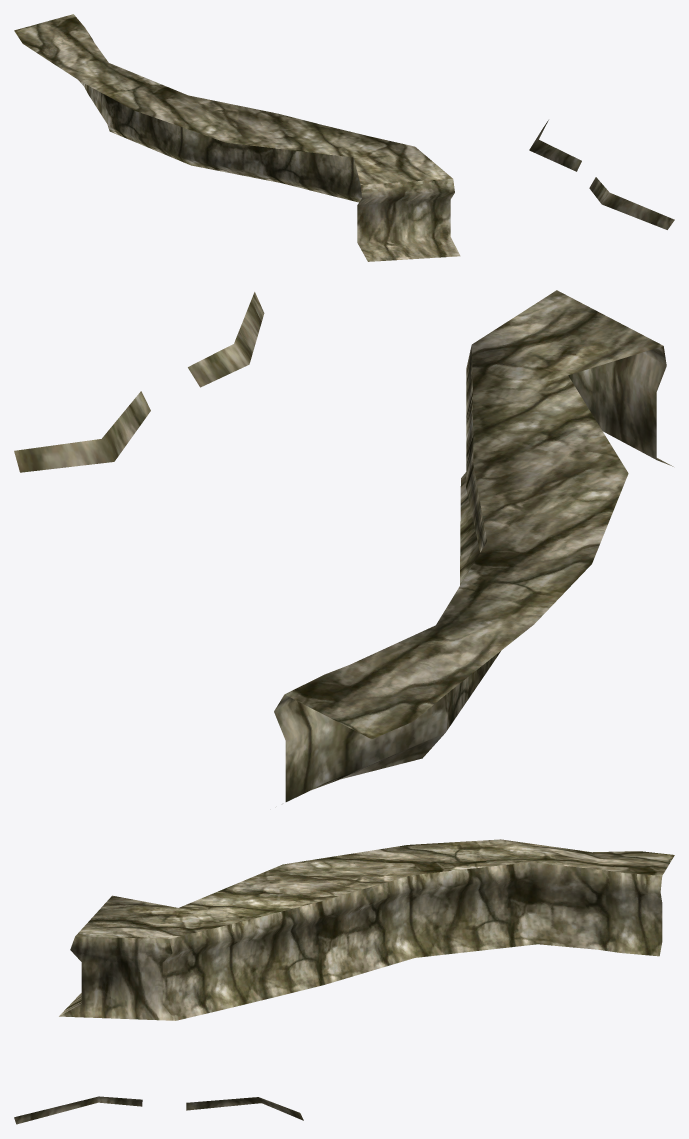
Rendered from CB_NEWPLAYSURFACE_CB_PLAYSURFACE76.fbx.
3 views of the same model, one above another, from view 1: azimuth 30°, elevation 25°; view 2: azimuth 150°, elevation 25°; view 3: azimuth 270°, elevation 25° (orthographic). The views are drawn at different scales.
Parts seen in each view (by area): view 1: CB_NEWPLAYSURFACE_CB_PLAYSURFACE76; view 2: CB_NEWPLAYSURFACE_CB_PLAYSURFACE76; view 3: CB_NEWPLAYSURFACE_CB_PLAYSURFACE76.
Boxes of the visible parts, box(x1,y1,x2,y2) form: CB_NEWPLAYSURFACE_CB_PLAYSURFACE76: box(14, 14, 674, 261); CB_NEWPLAYSURFACE_CB_PLAYSURFACE76: box(14, 290, 673, 801); CB_NEWPLAYSURFACE_CB_PLAYSURFACE76: box(14, 839, 674, 1124).
Bounding box in the file's own units: 187382 × 36965 × 256361.
Materials: 2 (2 with a texture image).
